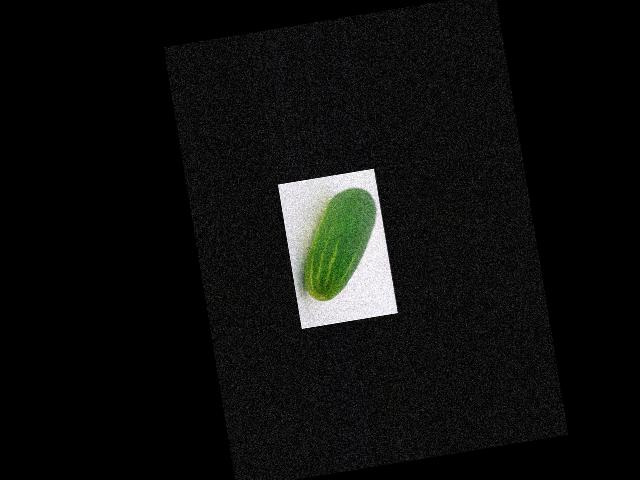cucumber: (290, 184, 389, 303)
